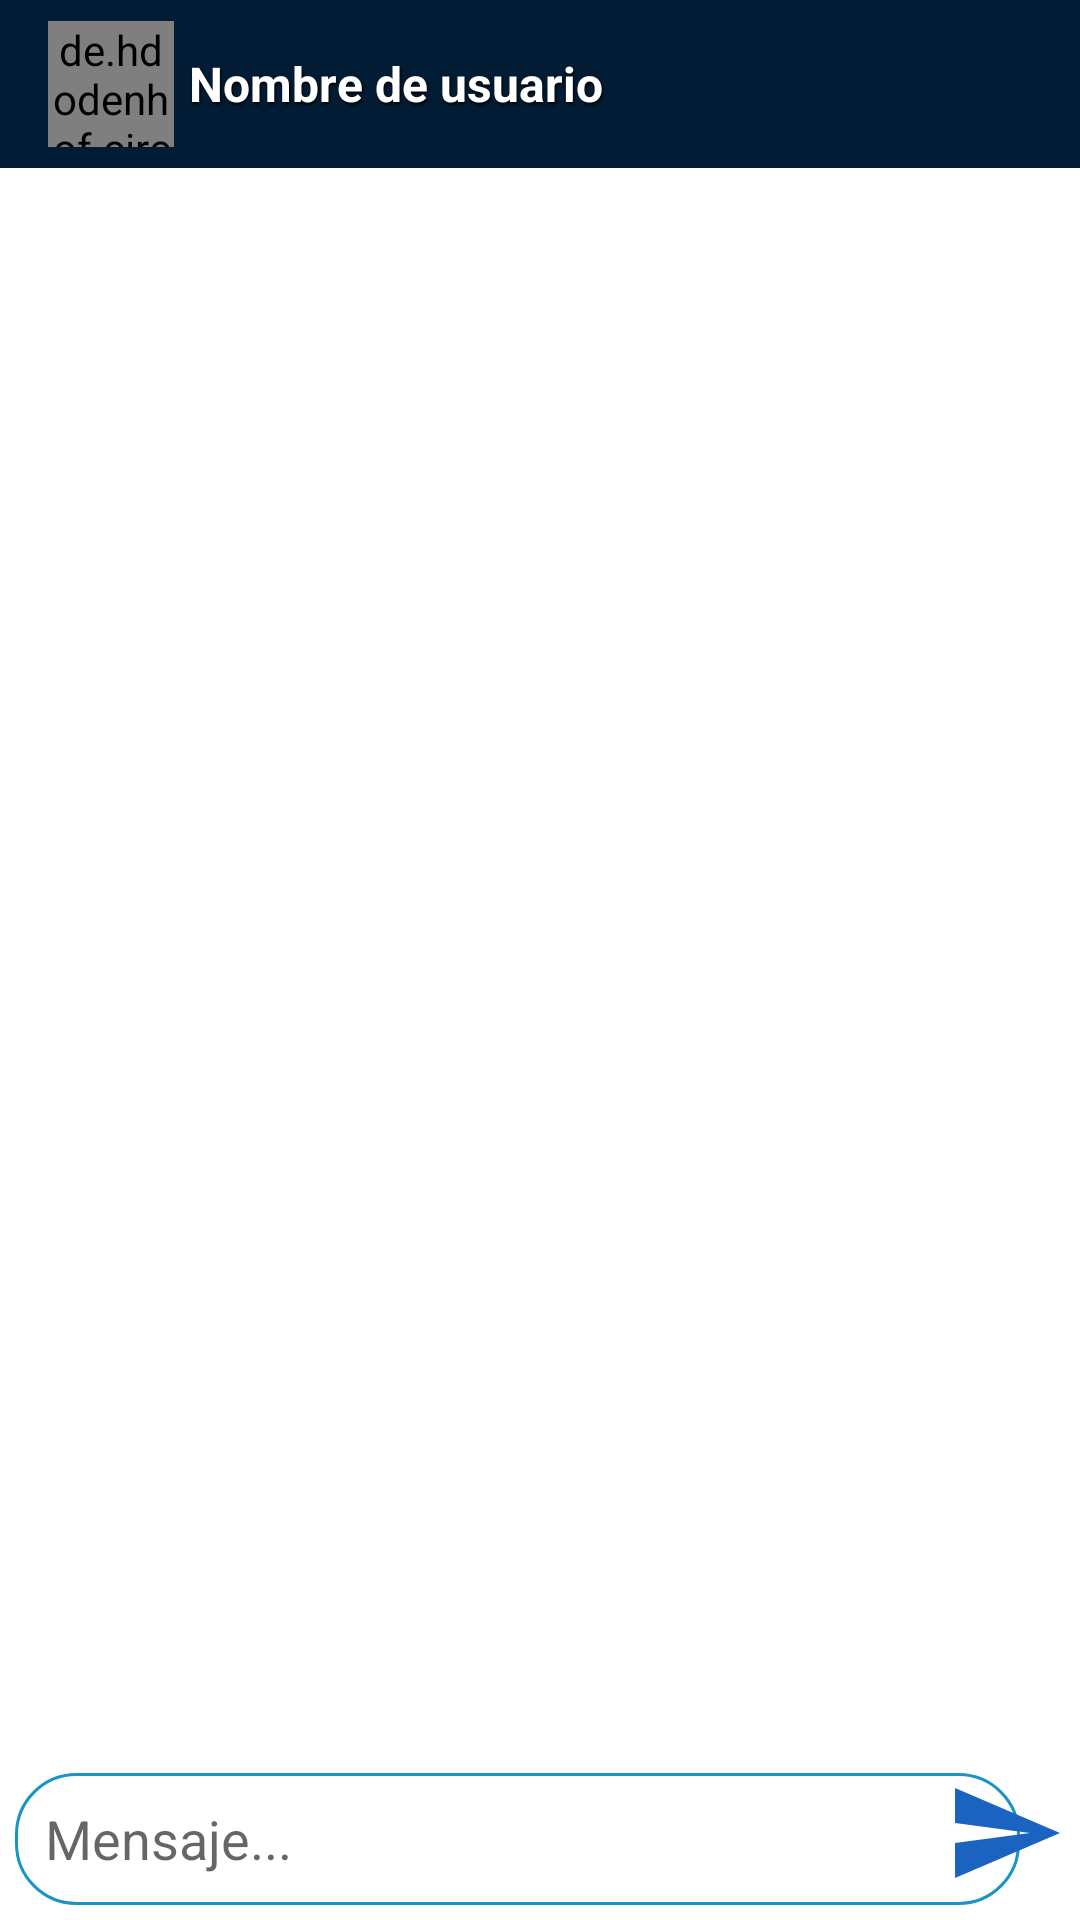

Icons on this 1080×1920 Android screen, each with its box as bbox(x1, y1, x2, y2):
enviar: bbox(945, 1773, 1060, 1893)
